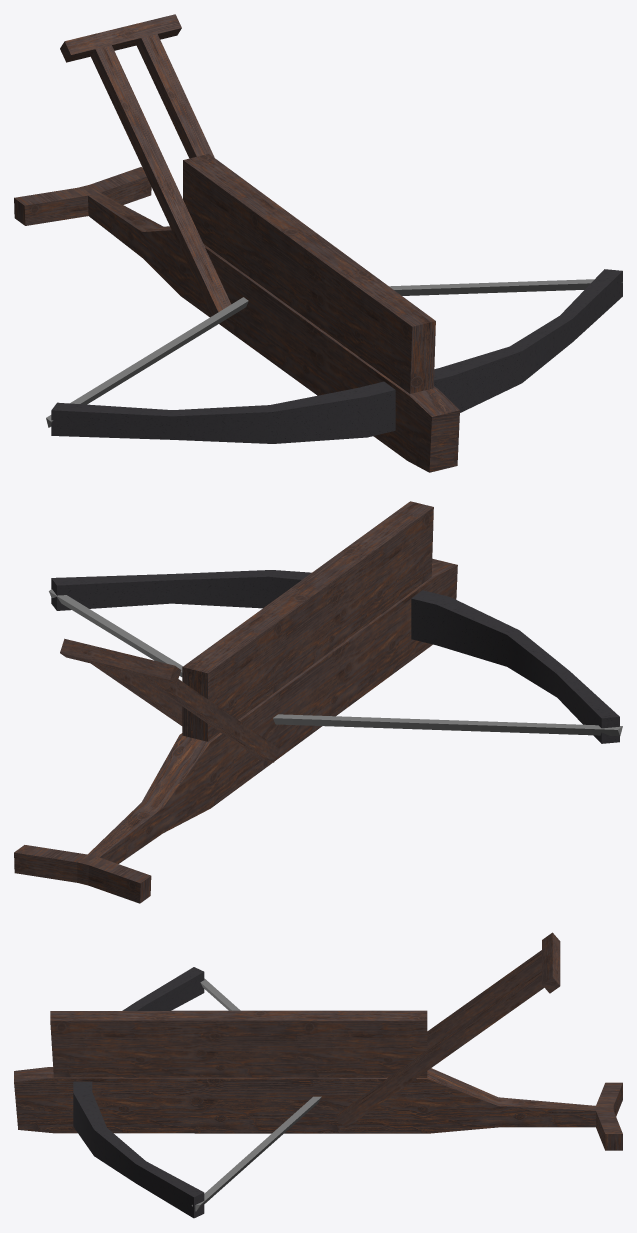
File: 1221诸葛弩.FBX
3 renders of one model, top to bottom at view 1: azimuth 30°, elevation 25°; view 2: azimuth 150°, elevation 25°; view 3: azimuth 270°, elevation 25°, orthographic. The views are drawn at different scales.
Visible parts, largest first — view 1: 1222_ZhuGeNu; view 2: 1222_ZhuGeNu; view 3: 1222_ZhuGeNu.
Boxes of the visible parts, x1,y1,x2,y2 form: 1222_ZhuGeNu: (14, 14, 622, 472); 1222_ZhuGeNu: (14, 501, 622, 903); 1222_ZhuGeNu: (14, 932, 622, 1218).
Size of the model in its own units: 86.37 by 30.08 by 96.15.
Materials: 1 (1 with a texture image).
